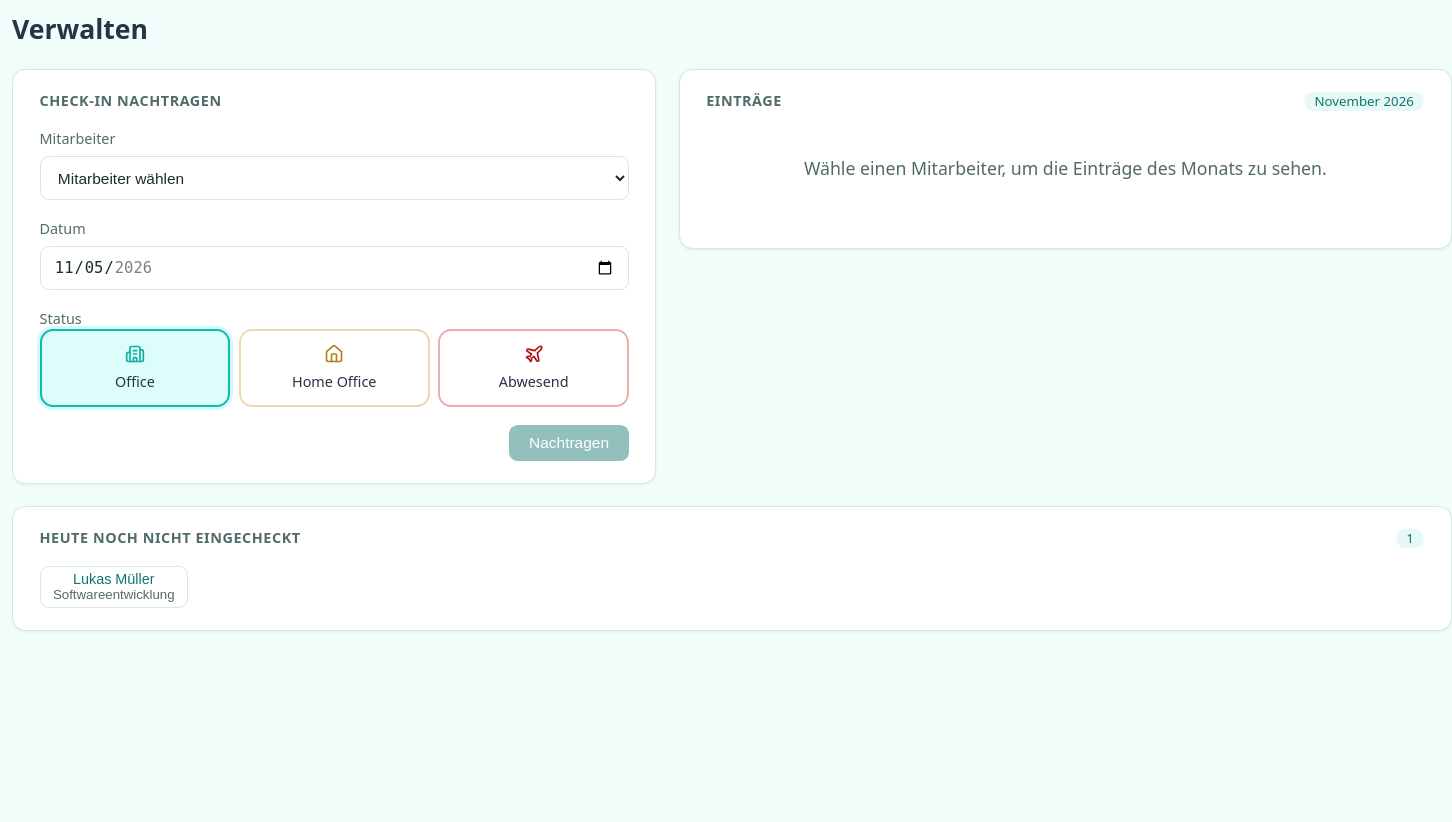
Manage page: add and correct › keeps "Eintrag ändern" disabled while the status is unchanged
The image size is (1452, 822).
Select "Anna Adler" in the dropdown. click: (334, 178)
box: top-left (40, 156), bottom-right (629, 200)
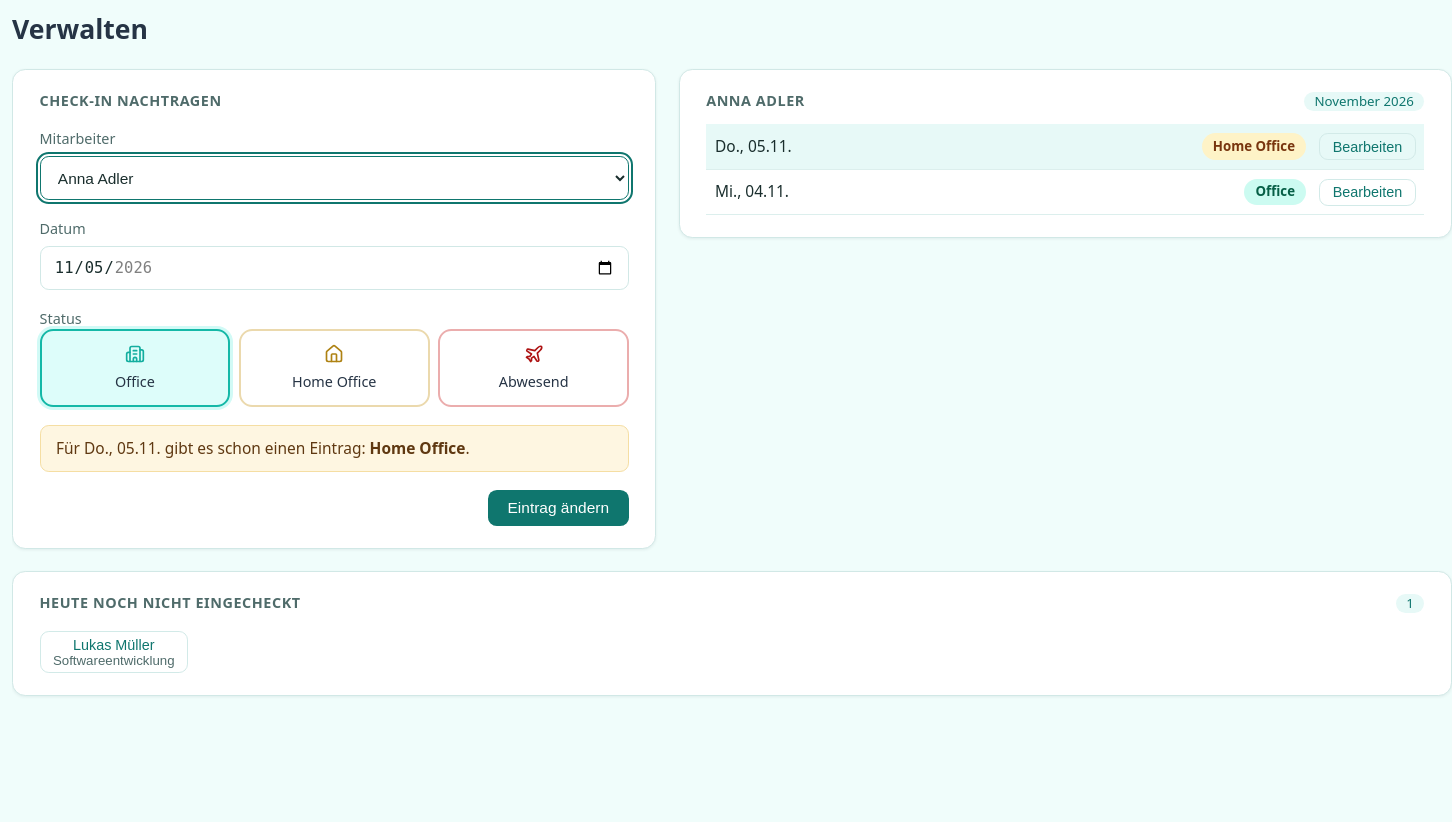
Click the radio button labelled "Home Office". click: click(334, 368)
box: top-left (239, 329), bottom-right (430, 407)
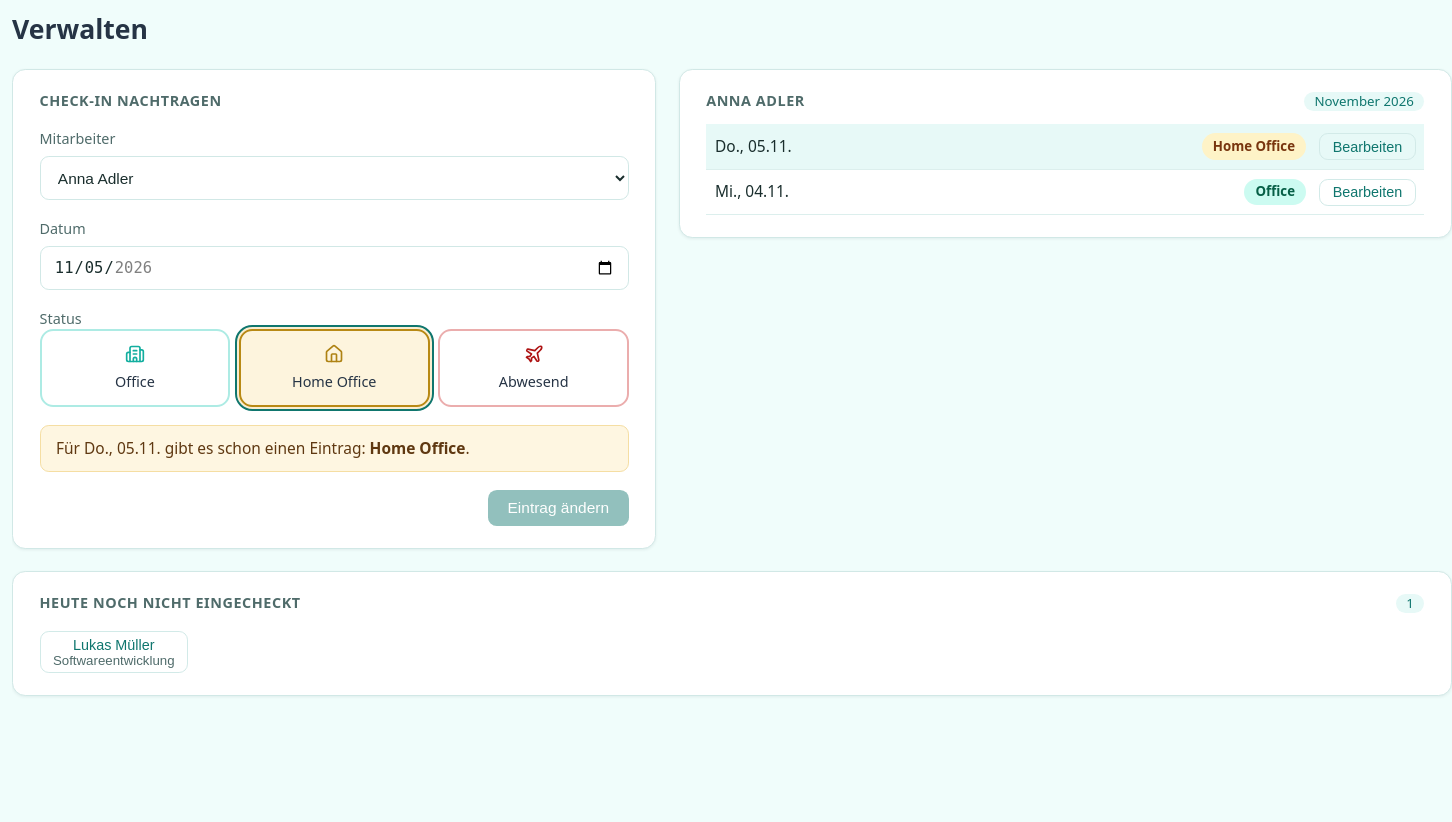
Check: the button "Eintrag ändern" is disabled, box top-left (488, 490), bottom-right (629, 526)
